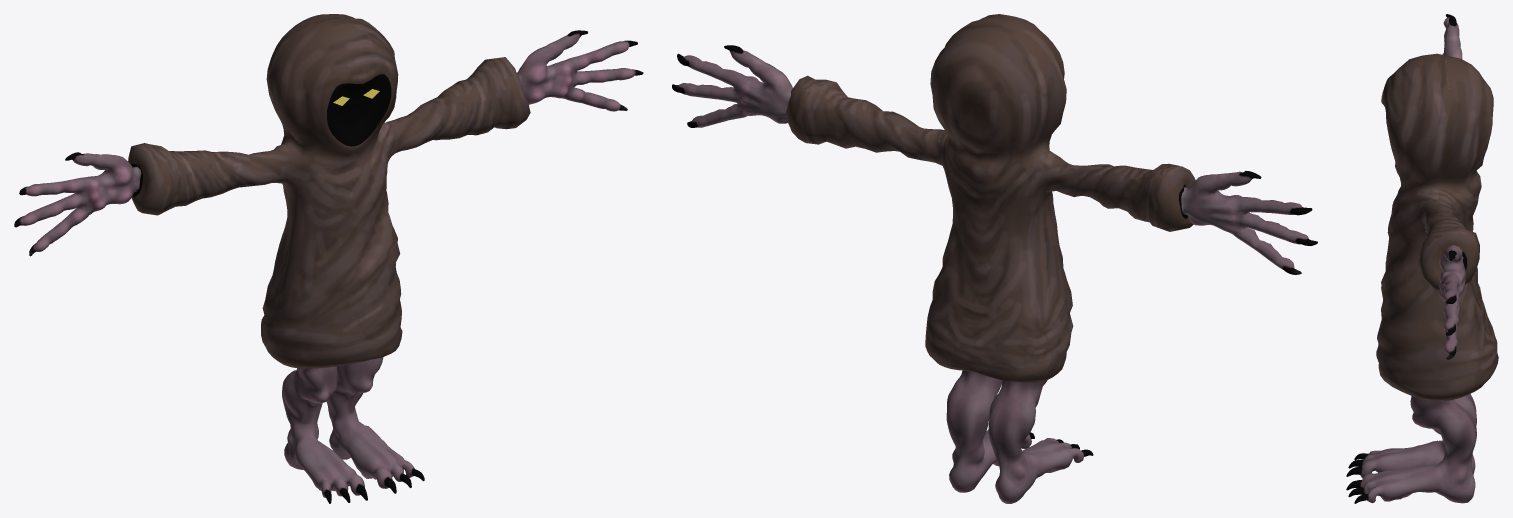
File: Game Jam TO UNITY.fbx
The picture shows the model from 3 angles, left to right: view 1: azimuth 30°, elevation 25°; view 2: azimuth 150°, elevation 25°; view 3: azimuth 270°, elevation 25°; orthographic projection. The views are drawn at different scales.
Parts seen in each view (by area): view 1: MONSTER; view 2: MONSTER; view 3: MONSTER.
Boxes of the visible parts, bbox=[...] form: MONSTER: bbox=[14, 14, 643, 503]; MONSTER: bbox=[672, 14, 1317, 503]; MONSTER: bbox=[1346, 14, 1498, 503].
Bounding box in the file's own units: 2645 × 1822 × 582.
